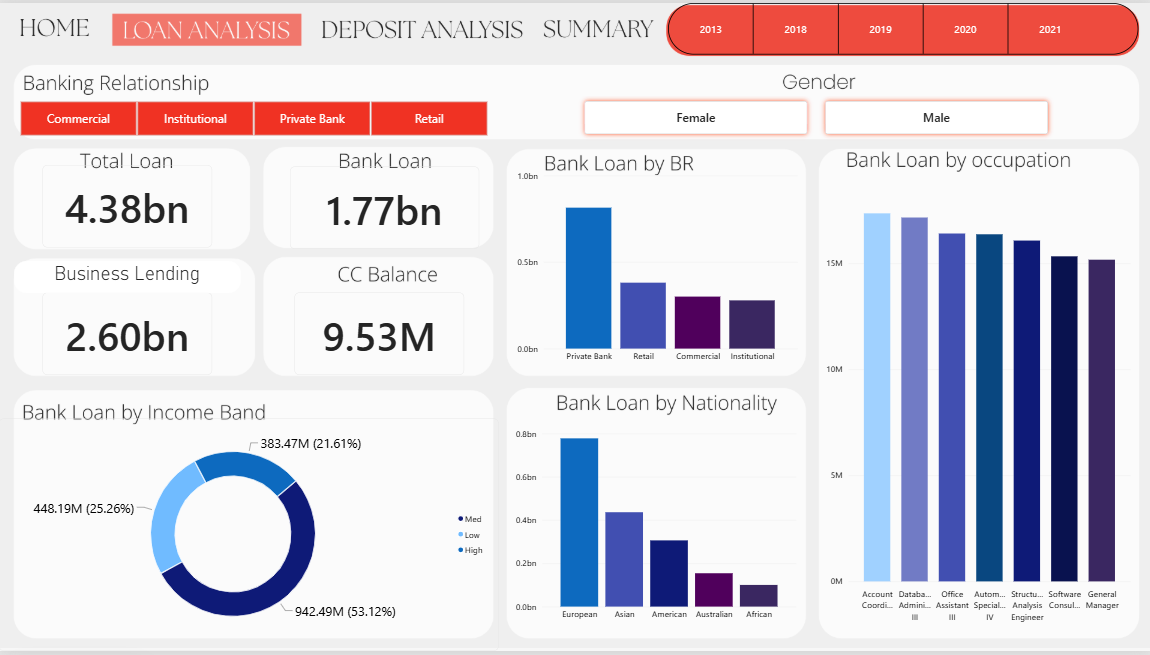

The dashboard page shown, as its layout file describes it:
{"tool":"powerbi","page":{"name":"Loan Analysis","canvas":[1920,1080],"ordinal":1},"visuals":[{"type":"advancedSlicerVisual","fields":{"Values":["banking_case customer.Year of Joining"]},"box":[1115.9,0,786.4,86.4],"z":0},{"type":"actionButton","box":[20.5,0,145.5,86.4],"z":1},{"type":"actionButton","box":[529.5,0,359.1,86.4],"z":2},{"type":"actionButton","box":[902.3,0,193.2,86.4],"z":3},{"type":"actionButton","box":[20,0,145.5,86.4],"z":5},{"type":"card","fields":{"Values":["banking_case customer.tatal loan"]},"box":[72.5,270,282.5,137.5],"z":6},{"type":"card","fields":{"Values":["Sum(banking_case customer.Bank Loans)"]},"box":[485,272.5,315,137.5],"z":7},{"type":"card","fields":{"Values":["Sum(banking_case customer.Business Lending)"]},"box":[72.5,482.5,282.5,137.5],"z":8},{"type":"card","fields":{"Values":["Sum(banking_case customer.Credit Card Balance)"]},"box":[492.5,482.5,282.5,137.5],"z":9},{"type":"advancedSlicerVisual","fields":{"Values":["banking_case customer.GenderId"]},"box":[965,152.5,795,77.5],"z":10},{"type":"donutChart","fields":{"Category":["banking_case customer.Income Band"],"Y":["Sum(banking_case customer.Bank Loans)"]},"box":[0,692.5,832.5,387.5],"z":11},{"type":"clusteredColumnChart","fields":{"Category":["banking_case customer.Nationality"],"Y":["Sum(banking_case customer.Bank Loans)"]},"box":[845,692.5,500,357.5],"z":12},{"type":"clusteredColumnChart","fields":{"Category":["banking_case customer.Occupation"],"Y":["Sum(banking_case customer.Bank Loans)"]},"box":[1362,304,540,746],"z":13},{"type":"clusteredColumnChart","fields":{"Category":["banking_case customer.BRId"],"Y":["Sum(banking_case customer.Bank Loans)"]},"box":[847.5,262.5,500,357.5],"z":14},{"type":"slicer","fields":{"Values":["banking_case customer.BRId"]},"box":[15,161.2,817.5,60],"z":15},{"type":"textbox","box":[23.8,428.9,378.2,53.6],"z":16}]}

Visuals, with their boxes in screenshot pixels (x1, y1, x2, y2), scaled from the page's 1920x1080 canvas onto the 1150x655 screenshot:
advancedSlicerVisual - banking_case customer.Year of Joining: box(668, 0, 1139, 52)
actionButton: box(12, 0, 99, 52)
actionButton: box(317, 0, 532, 52)
actionButton: box(540, 0, 656, 52)
actionButton: box(12, 0, 99, 52)
card - banking_case customer.tatal loan: box(43, 164, 213, 247)
card - Sum(banking_case customer.Bank Loans): box(290, 165, 479, 249)
card - Sum(banking_case customer.Business Lending): box(43, 293, 213, 376)
card - Sum(banking_case customer.Credit Card Balance): box(295, 293, 464, 376)
advancedSlicerVisual - banking_case customer.GenderId: box(578, 92, 1054, 139)
donutChart - banking_case customer.Income Band x Sum(banking_case customer.Bank Loans): box(0, 420, 499, 654)
clusteredColumnChart - banking_case customer.Nationality x Sum(banking_case customer.Bank Loans): box(506, 420, 806, 637)
clusteredColumnChart - banking_case customer.Occupation x Sum(banking_case customer.Bank Loans): box(816, 184, 1139, 637)
clusteredColumnChart - banking_case customer.BRId x Sum(banking_case customer.Bank Loans): box(508, 159, 807, 376)
slicer - banking_case customer.BRId: box(9, 98, 499, 134)
textbox: box(14, 260, 241, 293)
